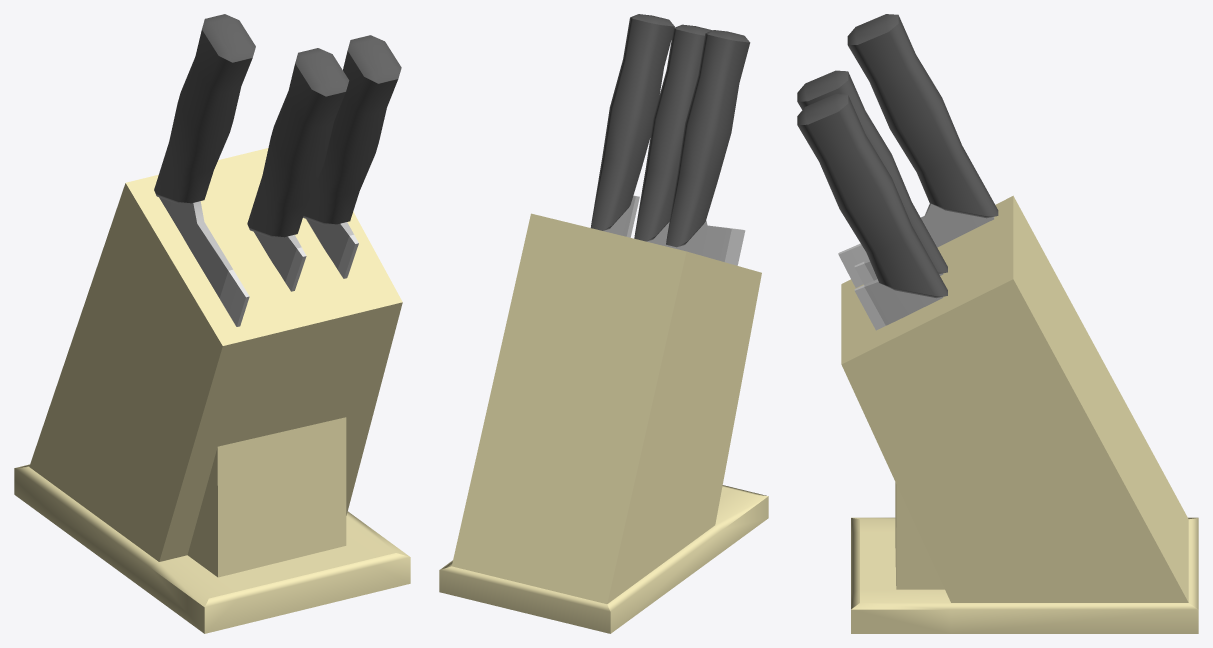
The model's file is SM_Kitchen_DaoHe.fbx.
3 views of the same model, side by side, from view 1: azimuth 30°, elevation 25°; view 2: azimuth 150°, elevation 25°; view 3: azimuth 270°, elevation 25° (orthographic). The views are drawn at different scales.
Parts seen in each view (by area): view 1: SM_Kitchen_DaoHe; view 2: SM_Kitchen_DaoHe; view 3: SM_Kitchen_DaoHe.
Part boxes in pixels (x1,y1,x2,y2): SM_Kitchen_DaoHe: [14, 14, 410, 633]; SM_Kitchen_DaoHe: [439, 14, 768, 633]; SM_Kitchen_DaoHe: [797, 14, 1198, 633].
Size of the model in its own units: 0.1098 by 0.3007 by 0.2026.
